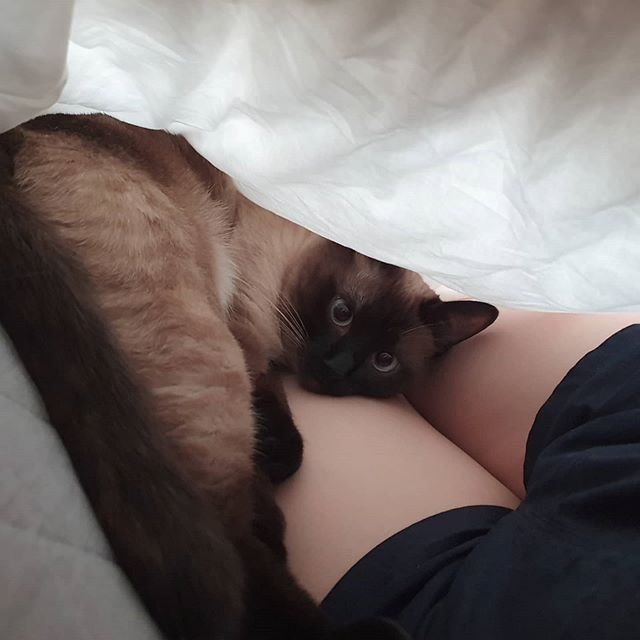cat: (277, 228, 503, 413)
